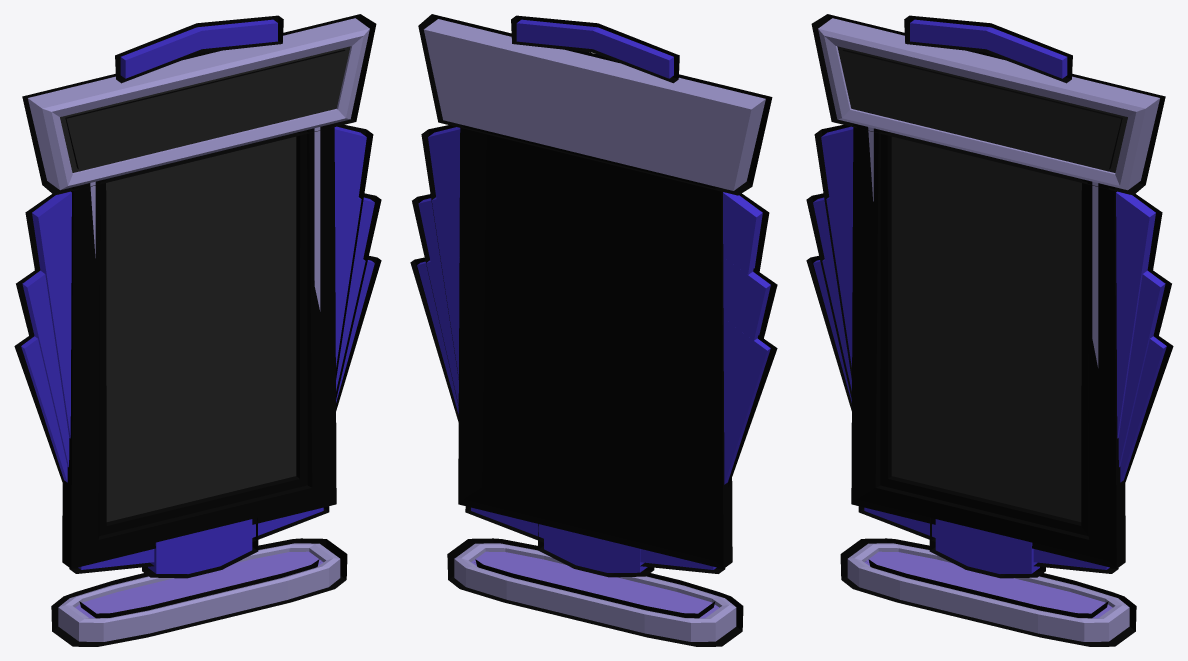
Rendered from Instructionboard.fbx.
3 renders of one model, left to right at view 1: azimuth 30°, elevation 25°; view 2: azimuth 150°, elevation 25°; view 3: azimuth 330°, elevation 25°, orthographic.
Parts seen in each view (by area): view 1: Cube.040, Cube.003, Plane.020, Cube.046, Cube.042, Plane.021, Cube.044, Cube.043; view 2: Cube.003, Plane.020, Cube.046, Plane.021, Cube.044, Cube.043; view 3: Cube.040, Cube.003, Plane.020, Cube.046, Cube.042, Plane.021, Cube.044, Cube.043.
Boxes of the visible parts, x1,y1,x2,y2 form: Cube.040: (106, 136, 296, 521); Cube.003: (14, 14, 381, 646); Plane.020: (28, 18, 369, 641); Cube.046: (21, 126, 374, 569); Cube.042: (60, 46, 350, 172); Plane.021: (75, 551, 323, 618); Cube.044: (120, 19, 277, 78); Cube.043: (148, 519, 252, 573); Cube.003: (410, 14, 777, 646); Plane.020: (424, 19, 765, 641); Cube.046: (417, 127, 770, 569); Plane.021: (471, 551, 719, 618); Cube.044: (516, 19, 673, 78); Cube.043: (544, 525, 647, 572); Cube.040: (891, 136, 1081, 521); Cube.003: (806, 14, 1173, 646); Plane.020: (818, 18, 1159, 641); Cube.046: (813, 126, 1166, 569); Cube.042: (837, 46, 1127, 172); Plane.021: (864, 551, 1112, 618); Cube.044: (910, 19, 1067, 78); Cube.043: (935, 519, 1039, 573).
Size of the model in its own units: 28.41 by 43.38 by 5.41.
